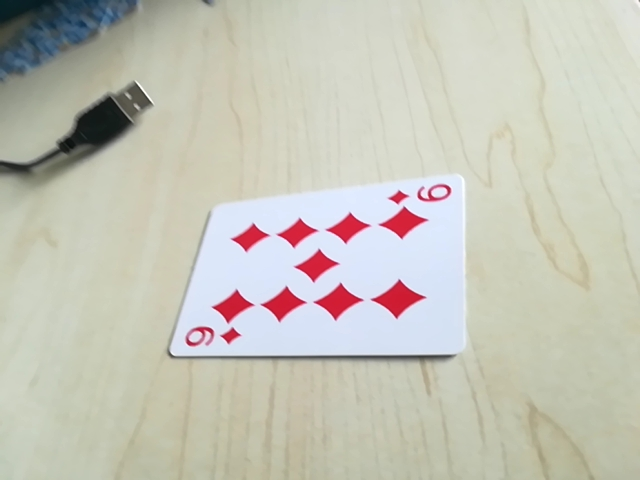fk 9: (386, 178, 456, 212), (178, 323, 245, 354)
